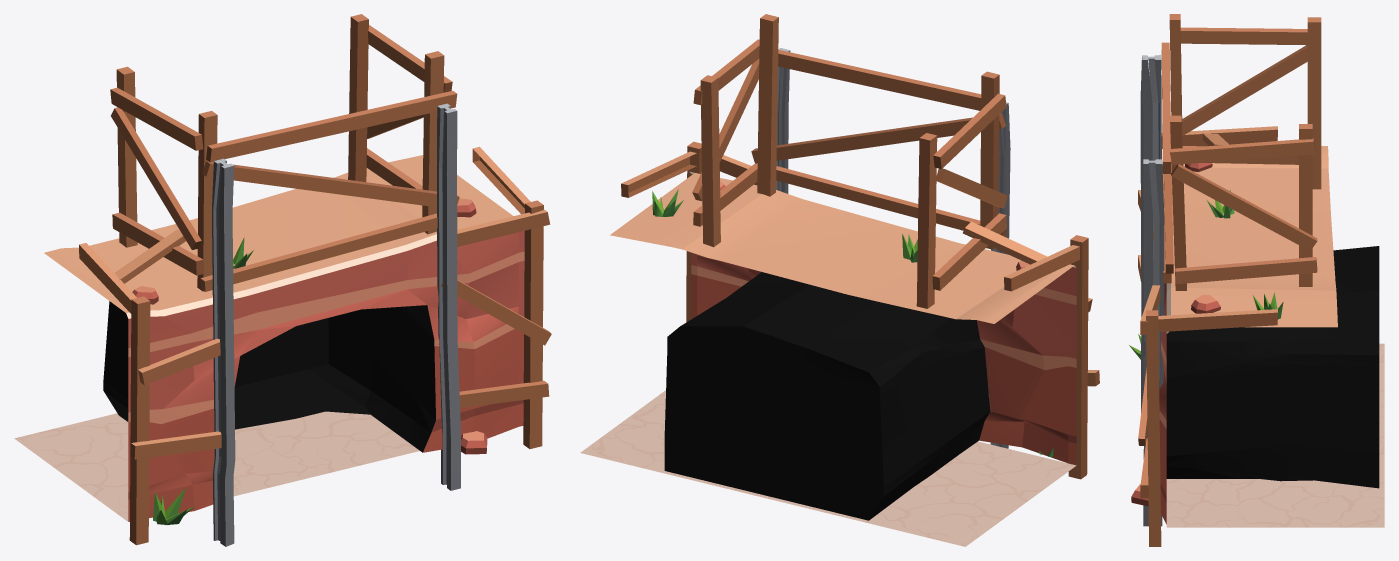
File: Border_Exit2.fbx
3 views of the same model, side by side, from view 1: azimuth 30°, elevation 25°; view 2: azimuth 150°, elevation 25°; view 3: azimuth 270°, elevation 25° (orthographic). The views are drawn at different scales.
Visible parts, largest first — view 1: Border_Exit; view 2: Border_Exit; view 3: Border_Exit.
Boxes of the visible parts, x1,y1,x2,y2 form: Border_Exit: (14, 14, 551, 546); Border_Exit: (580, 14, 1099, 546); Border_Exit: (1129, 14, 1384, 546).
Size of the model in its own units: 5284 by 5106 by 2938.
1 material, 1 textured.
